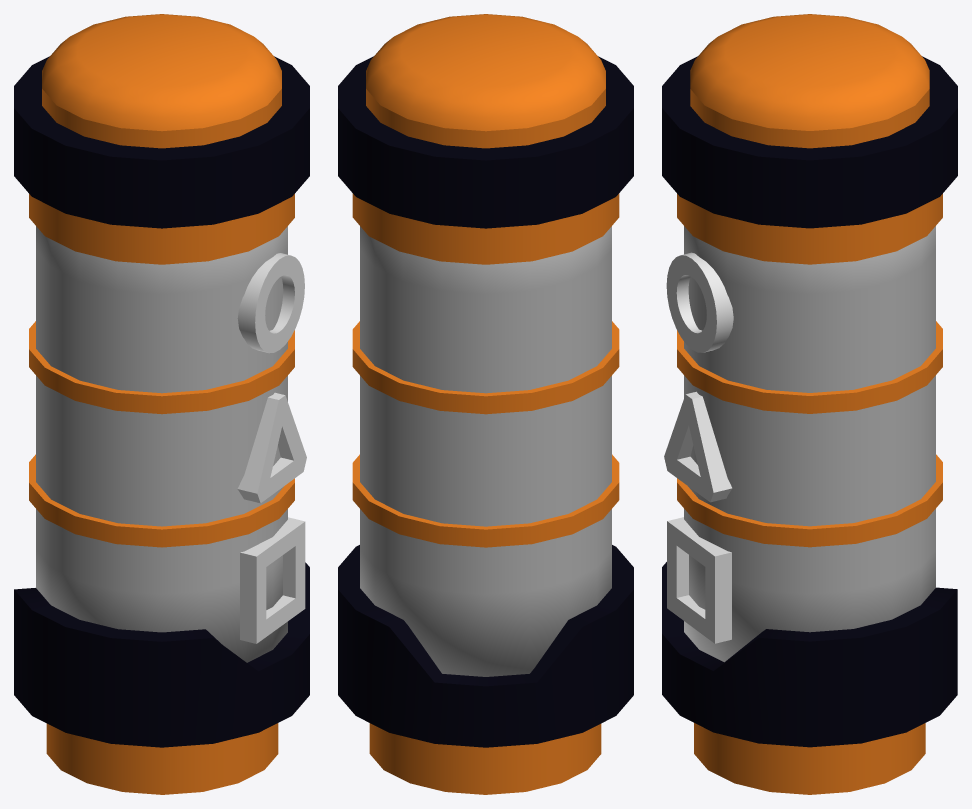
File: Batterie_cable_lp.fbx
The picture shows the model from 3 angles, left to right: view 1: azimuth 30°, elevation 25°; view 2: azimuth 150°, elevation 25°; view 3: azimuth 270°, elevation 25°; orthographic projection.
Parts seen in each view (by area): view 1: Cylinder001, Cylinder003, Cylinder004, Cylinder005, stack_energie, Cylinder006, Cylinder010, Cylinder009, Rectangle001, Line001, Circle001; view 2: Cylinder001, Cylinder003, Cylinder004, Cylinder005, stack_energie, Cylinder006, Cylinder009, Cylinder010; view 3: Cylinder001, Cylinder003, Cylinder004, Cylinder005, stack_energie, Cylinder006, Cylinder010, Cylinder009, Rectangle001, Line001, Circle001.
Part boxes in pixels (x1,y1,x2,y2): Cylinder001: (36, 226, 287, 662); Cylinder003: (14, 562, 309, 747); Cylinder004: (14, 56, 309, 228); Cylinder005: (42, 14, 281, 148); stack_energie: (46, 723, 278, 794); Cylinder006: (29, 194, 294, 264); Cylinder010: (29, 321, 294, 414); Cylinder009: (29, 454, 294, 547); Rectangle001: (240, 517, 305, 643); Line001: (237, 392, 306, 503); Circle001: (237, 253, 304, 353); Cylinder001: (360, 226, 611, 676); Cylinder003: (338, 545, 633, 747); Cylinder004: (338, 56, 633, 228); Cylinder005: (366, 14, 605, 148); stack_energie: (369, 723, 601, 794); Cylinder006: (352, 193, 619, 264); Cylinder009: (352, 454, 619, 547); Cylinder010: (352, 321, 619, 414); Cylinder001: (684, 226, 935, 662); Cylinder003: (662, 562, 957, 747); Cylinder004: (662, 56, 957, 228); Cylinder005: (690, 14, 929, 148); stack_energie: (694, 723, 925, 794); Cylinder006: (677, 194, 942, 264); Cylinder010: (677, 321, 942, 413); Cylinder009: (677, 454, 942, 547); Rectangle001: (667, 517, 731, 643); Line001: (664, 391, 732, 502); Circle001: (666, 252, 733, 352).
Size of the model in its own units: 75.02 by 73.88 by 192.
